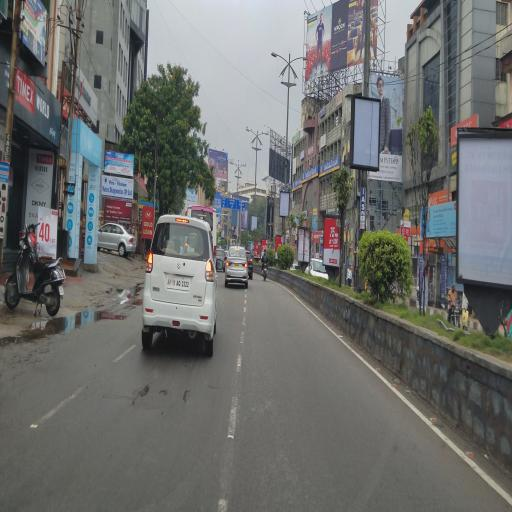street_light_0: (286, 45, 312, 81), (266, 46, 290, 84), (243, 124, 258, 150), (257, 125, 269, 148), (228, 156, 239, 178), (238, 160, 249, 174)
